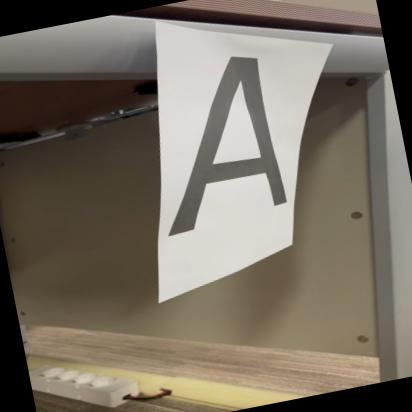seat: (146, 48, 318, 243)
